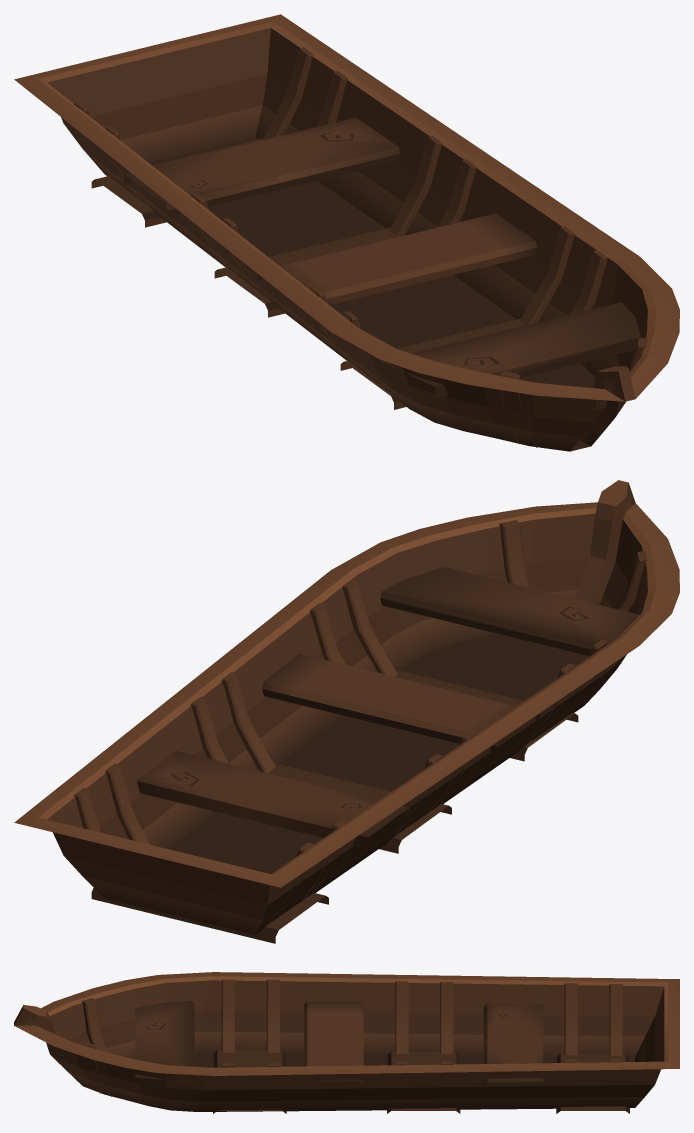
File: ENV_Fishing_Boat_01.fbx
3 views of the same model, one above another, from view 1: azimuth 30°, elevation 25°; view 2: azimuth 150°, elevation 25°; view 3: azimuth 270°, elevation 25° (orthographic). The views are drawn at different scales.
Parts seen in each view (by area): view 1: ENV_Fishing_Boat_01; view 2: ENV_Fishing_Boat_01; view 3: ENV_Fishing_Boat_01.
Boxes of the visible parts, <box> form: ENV_Fishing_Boat_01: <box>14,14,679,451</box>; ENV_Fishing_Boat_01: <box>14,480,679,943</box>; ENV_Fishing_Boat_01: <box>14,972,679,1113</box>.
Size of the model in its own units: 268 by 97.92 by 726.
